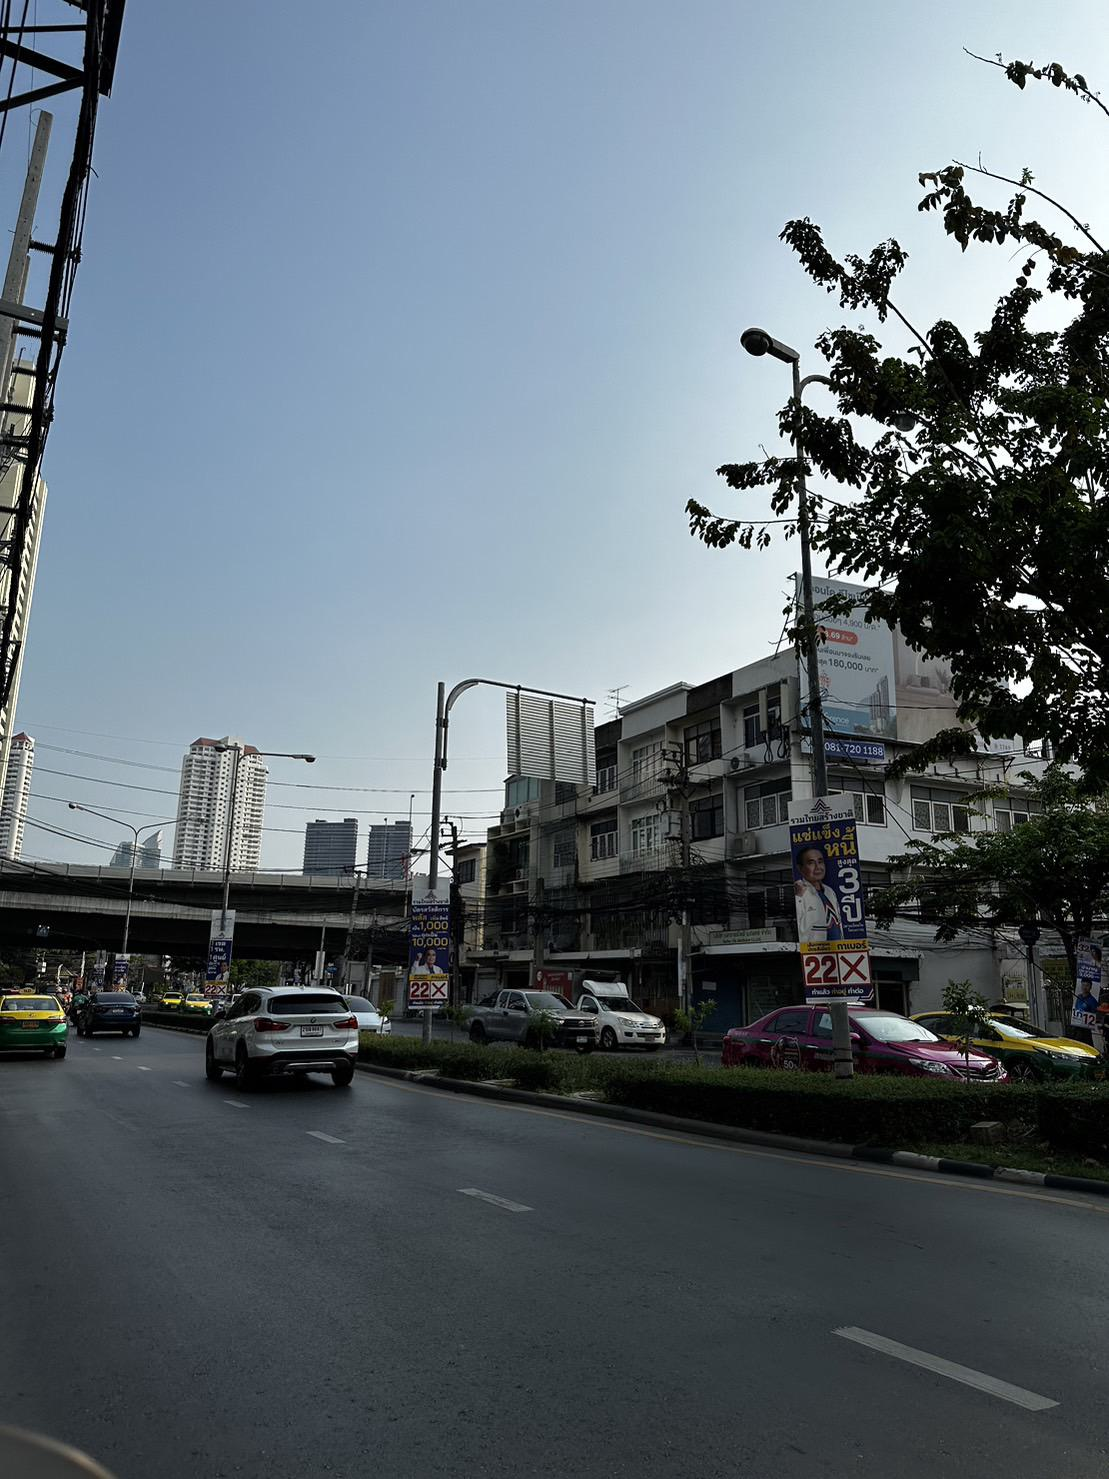Banner: (776, 795, 874, 1005), (409, 877, 455, 1011)
